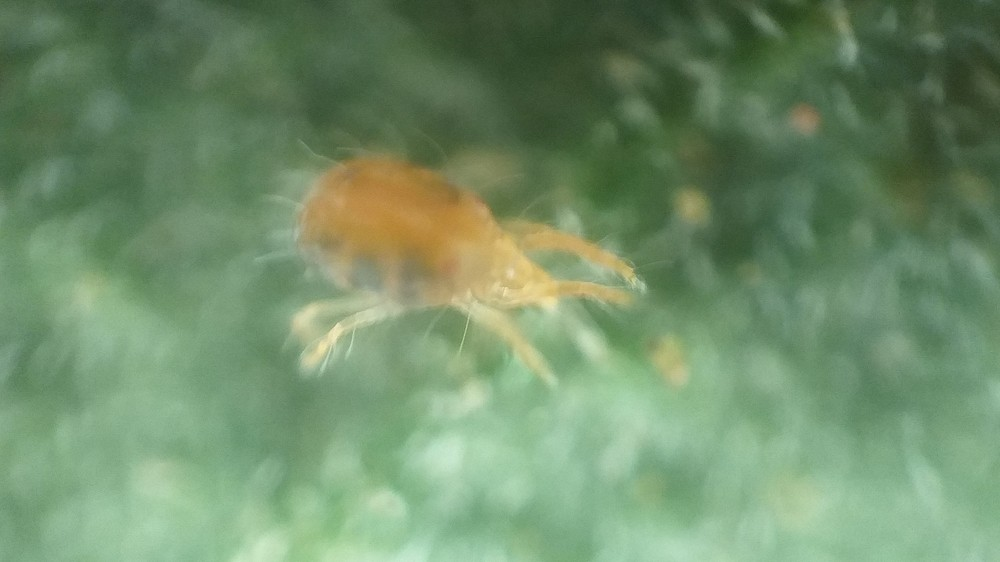Aracnido Rojo: (271, 131, 672, 415)
